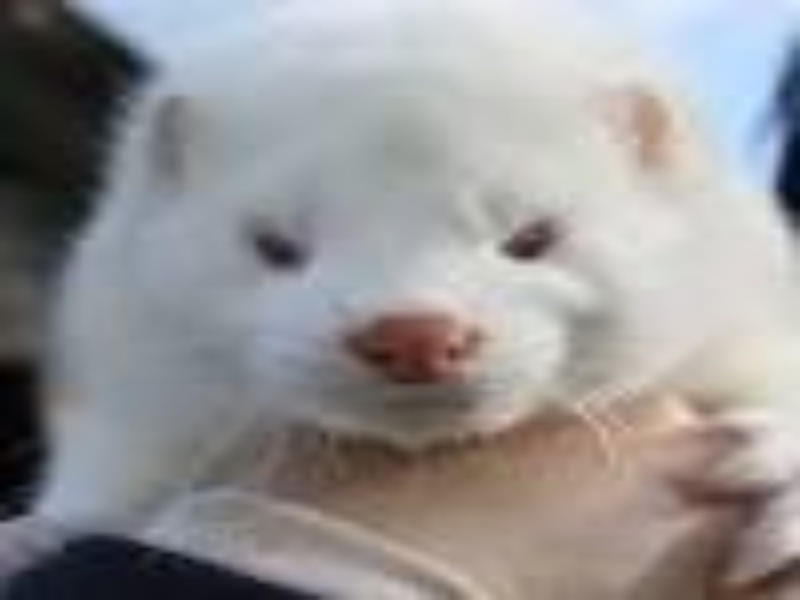minkish: (37, 6, 782, 553)
